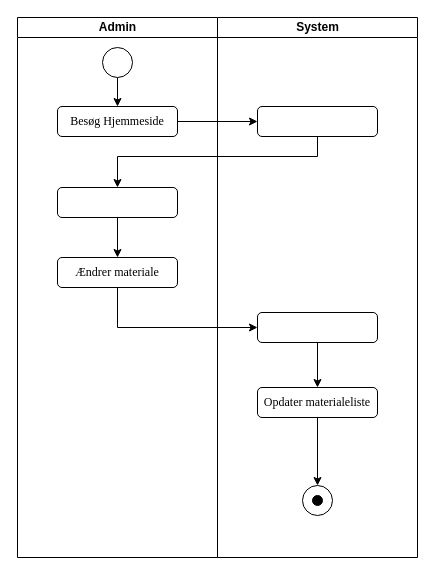
The diagram is 435 pixels wide and 575 high, and some of its shapes have lost their labels. Each missing label, with the centre of its shape:
Gem ændringer i Database: (317,327)
Login: (317,121)
Se liste over materialer: (117,202)
